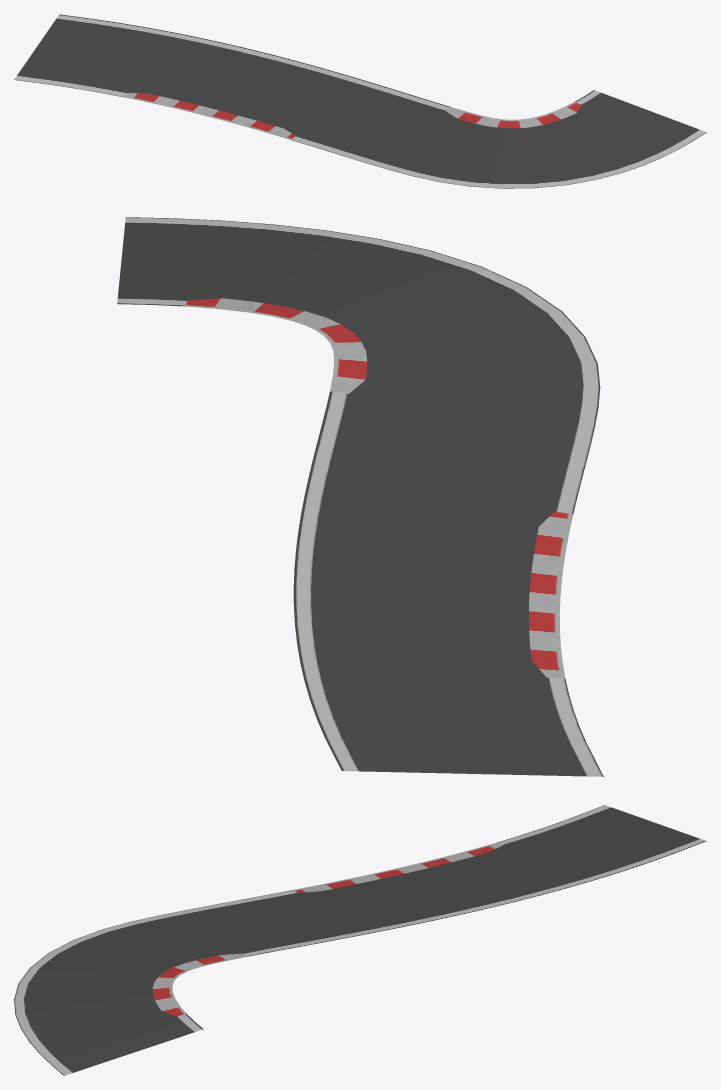
Rendered from sm_road.015.fbx.
3 views of the same model, one above another, from view 1: azimuth 30°, elevation 25°; view 2: azimuth 150°, elevation 25°; view 3: azimuth 270°, elevation 25° (orthographic). The views are drawn at different scales.
Parts seen in each view (by area): view 1: sm_road.016; view 2: sm_road.016; view 3: sm_road.016.
Part boxes in pixels (<box>): sm_road.016: <box>14,14,706,188</box>; sm_road.016: <box>117,217,603,776</box>; sm_road.016: <box>14,805,706,1075</box>.
Size of the model in its own units: 59.06 by 1.54 by 63.84.
